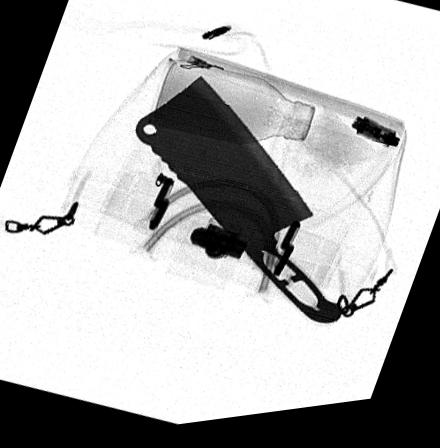Knife: (133, 79, 342, 332)
